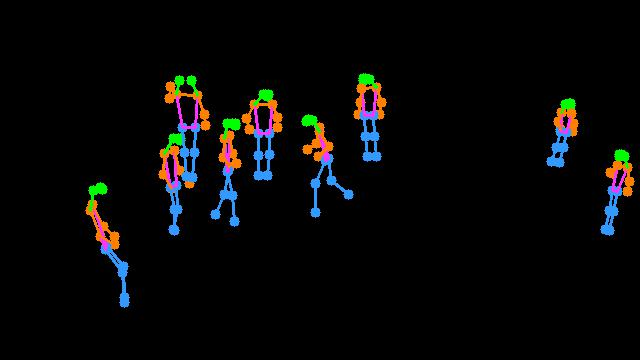normal: (291, 104, 356, 223), (536, 85, 592, 184), (207, 101, 249, 230), (346, 69, 397, 172)
